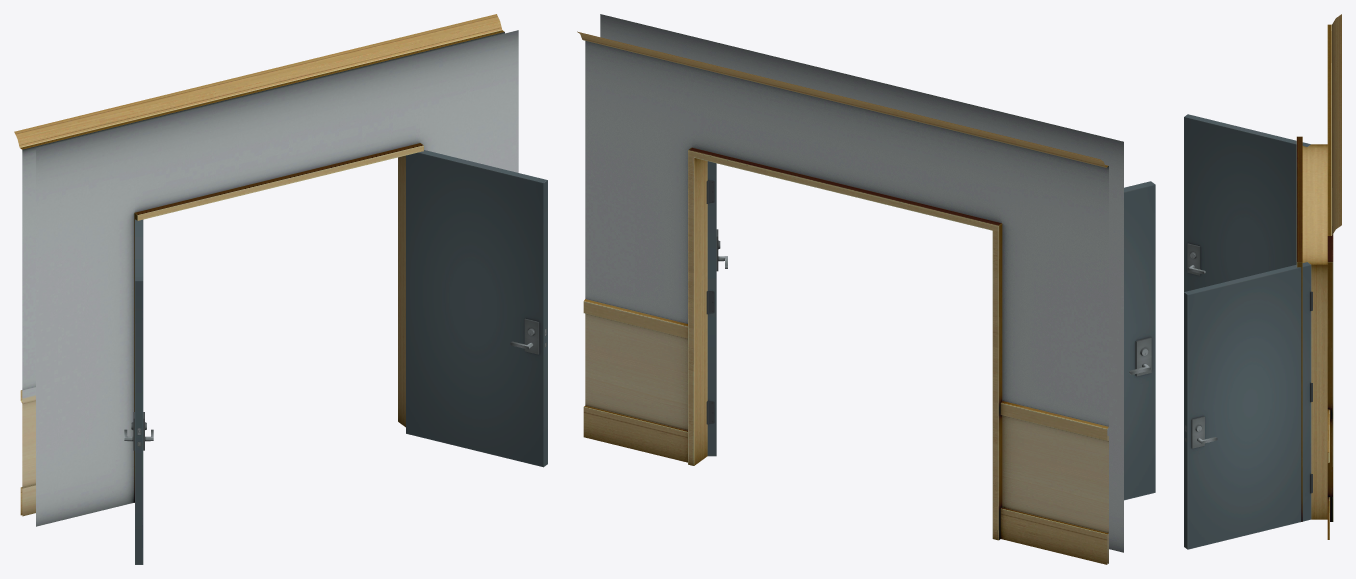
File: ExteriorDoor (merge).fbx
The picture shows the model from 3 angles, left to right: view 1: azimuth 30°, elevation 25°; view 2: azimuth 150°, elevation 25°; view 3: azimuth 270°, elevation 25°; orthographic projection. The views are drawn at different scales.
Visible parts, largest first — view 1: Exterior_Double_Door_Wall (1), Door 2, InteriorWallFrame, Door 3; view 2: InteriorWallFrame, Exterior_Double_Door_Wall (1), Door 3, Door 2; view 3: Door 2, Door 3, InteriorWallFrame, Exterior_Double_Door_Wall (1).
Boxes of the visible parts, left/top/right/bottom form: Exterior_Double_Door_Wall (1): left=36, top=30, right=518, bottom=526; Door 2: left=406, top=150, right=547, bottom=467; InteriorWallFrame: left=14, top=14, right=504, bottom=516; Door 3: left=131, top=219, right=146, bottom=564; InteriorWallFrame: left=577, top=31, right=1108, bottom=564; Exterior_Double_Door_Wall (1): left=600, top=14, right=1123, bottom=552; Door 3: left=1124, top=181, right=1155, bottom=500; Door 2: left=706, top=161, right=720, bottom=456; Door 2: left=1184, top=262, right=1312, bottom=549; Door 3: left=1184, top=114, right=1310, bottom=291; InteriorWallFrame: left=1315, top=14, right=1341, bottom=539; Exterior_Double_Door_Wall (1): left=1296, top=136, right=1314, bottom=521.
Bounding box in the file's own units: 4 × 3 × 1.26.
4 materials, 4 textured.
